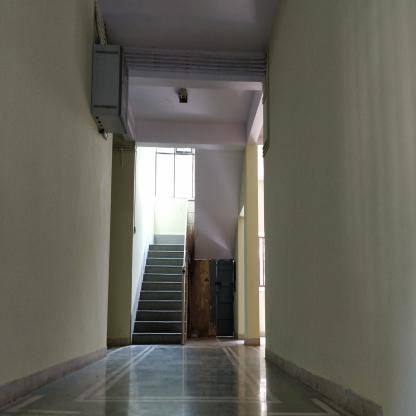stairs: (151, 242, 182, 349)
